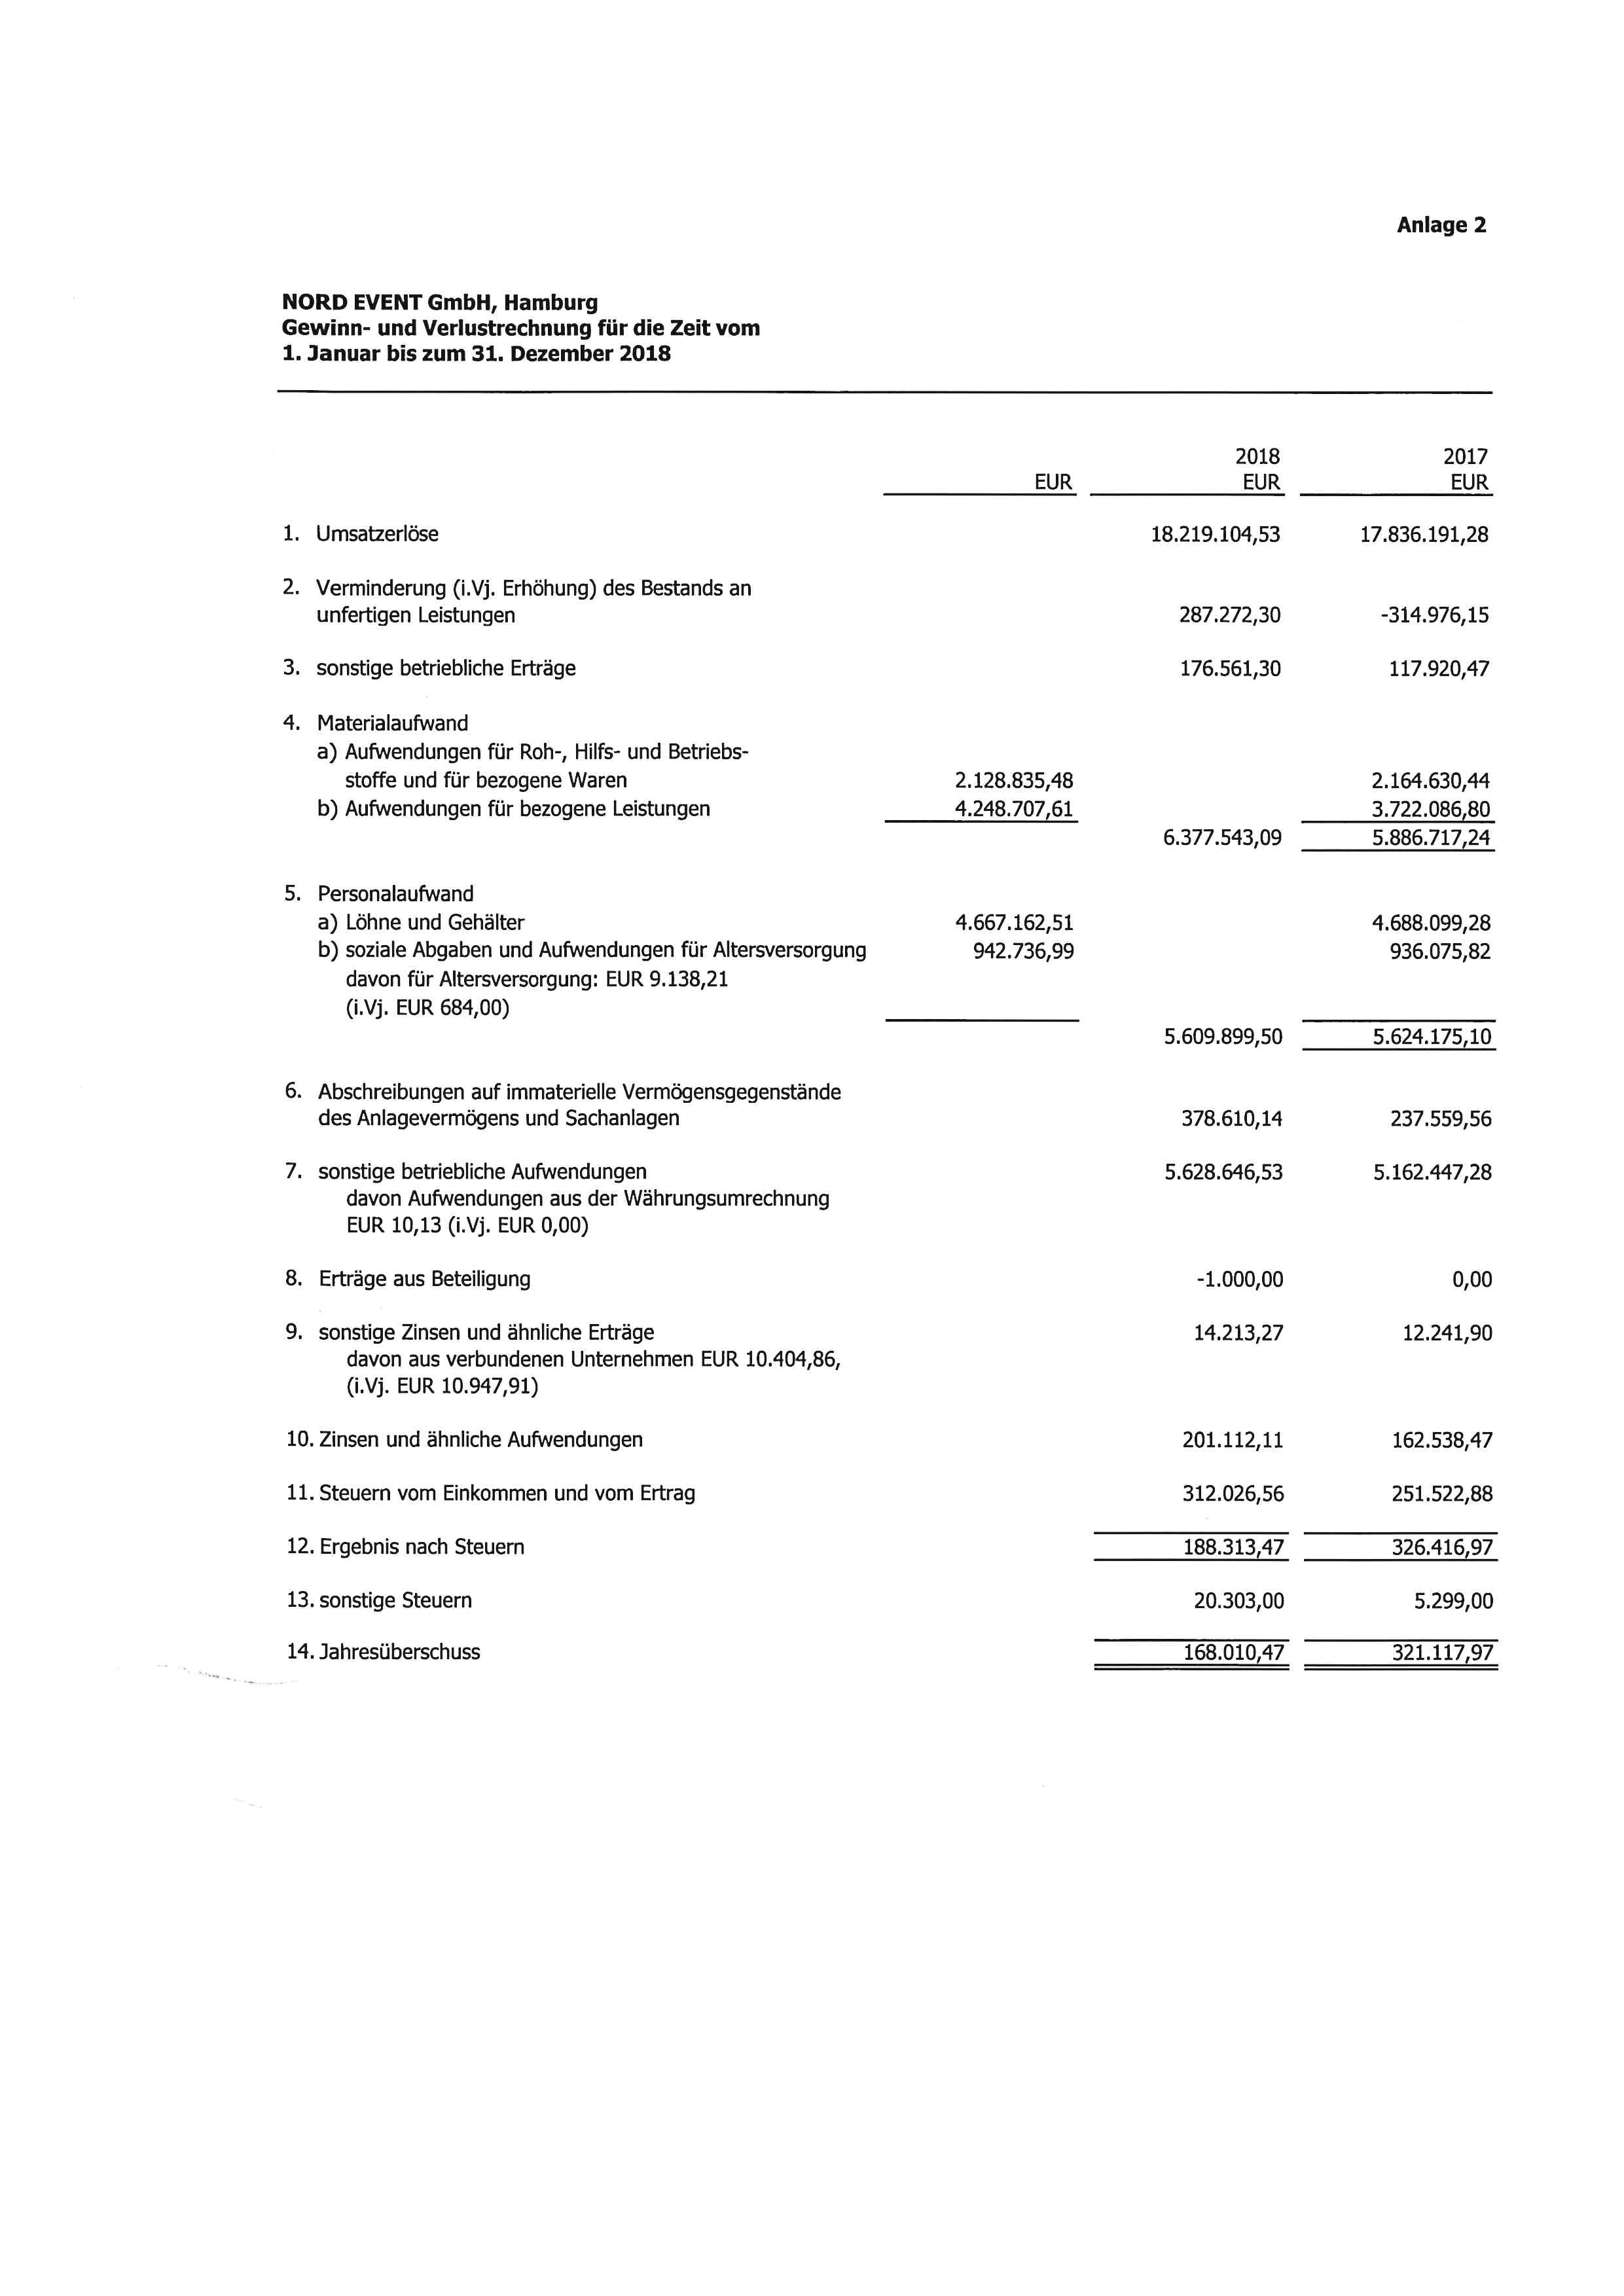GuV: (248, 411, 1531, 1713)
